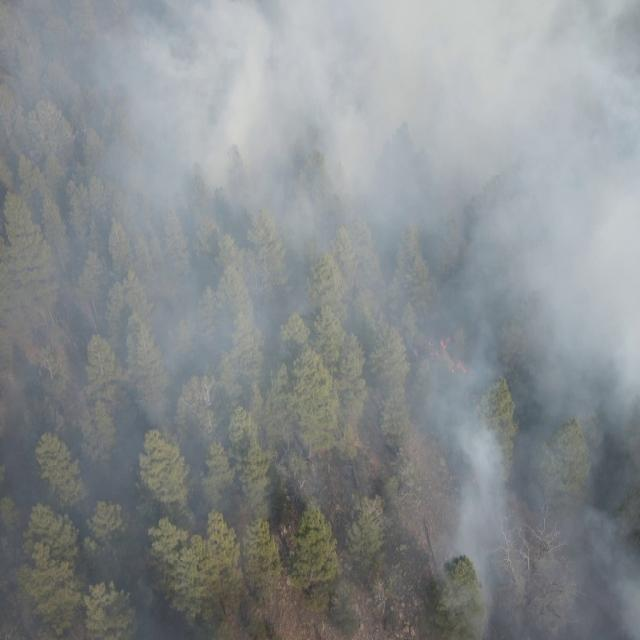fire: (411, 337, 474, 378)
smoke: (0, 0, 640, 640)
